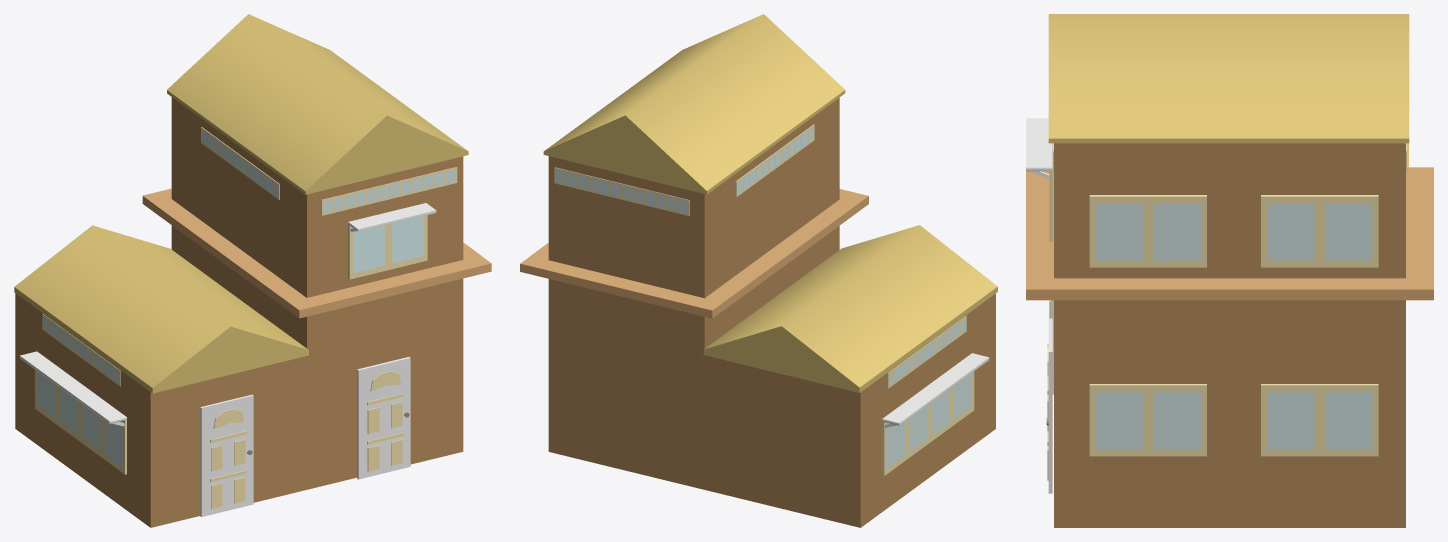
The model's file is House_02.fbx.
The picture shows the model from 3 angles, left to right: view 1: azimuth 30°, elevation 25°; view 2: azimuth 150°, elevation 25°; view 3: azimuth 270°, elevation 25°; orthographic projection. The views are drawn at different scales.
Visible parts, largest first — view 1: pCube58, pCube62, pCube59, pCube61, pCube60, pCube44 (×2), polySurface10 (×3), pCube64, pCube52 (×2), pCube65, pCube40 (×3), polySurface7 (×3) (+2 smaller); view 2: pCube58, pCube59, pCube62, pCube61, pCube60, pCube66, pCube65, polySurface10 (×2), Window31, pCube40 (×2), polySurface7 (×2), Window29; view 3: pCube58, pCube62, pCube60, polySurface10 (×4), polySurface7 (×4), pCube63, pCube66, pCube64, pCube40, pCube44.
Boxes of the visible parts, x1,y1,x2,y2 form: pCube58: (171, 97, 463, 353); pCube62: (167, 14, 468, 194); pCube59: (15, 293, 306, 527); pCube61: (14, 225, 308, 393); pCube60: (307, 315, 463, 489); pCube44 (×2): (200, 357, 410, 516); polySurface10 (×3): (37, 216, 423, 466); pCube64: (288, 255, 491, 318); pCube52 (×2): (210, 371, 403, 509); pCube65: (153, 199, 306, 310); pCube40 (×3): (19, 203, 436, 423); polySurface7 (×3): (35, 215, 427, 474); pCube58: (548, 97, 839, 353); pCube59: (704, 293, 995, 527); pCube62: (543, 14, 845, 194); pCube61: (703, 225, 997, 392); pCube60: (548, 316, 704, 489); pCube66: (520, 256, 722, 318); pCube65: (705, 199, 858, 310); polySurface10 (×2): (886, 373, 971, 468); Window31: (554, 167, 689, 216); pCube40 (×2): (882, 353, 989, 425); polySurface7 (×2): (882, 371, 974, 475); Window29: (735, 124, 814, 197); pCube58: (1054, 143, 1405, 350); pCube62: (1048, 14, 1409, 143); pCube60: (1054, 350, 1405, 527); polySurface10 (×4): (1095, 203, 1372, 449); polySurface7 (×4): (1089, 195, 1378, 456); pCube63: (1054, 278, 1405, 300); pCube66: (1406, 167, 1433, 300); pCube64: (1026, 167, 1053, 300); pCube40: (1026, 118, 1052, 171); pCube44: (1048, 318, 1052, 493).
Size of the model in its own units: 668 by 655 by 521.
